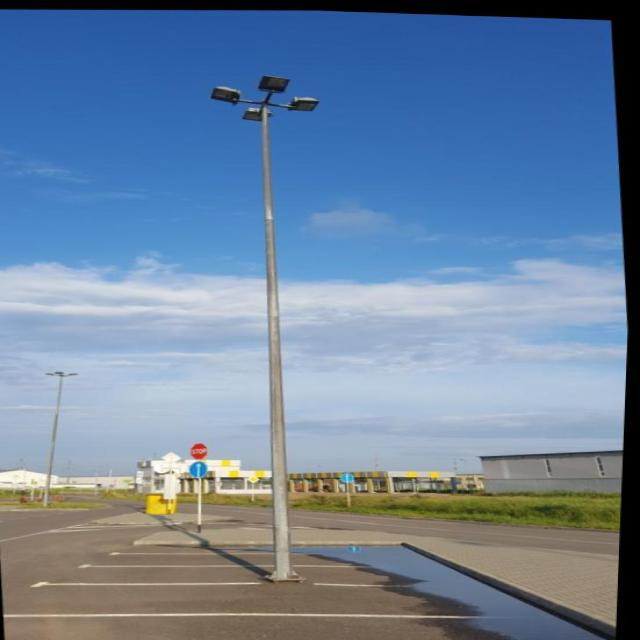pole: (249, 225, 318, 586)
